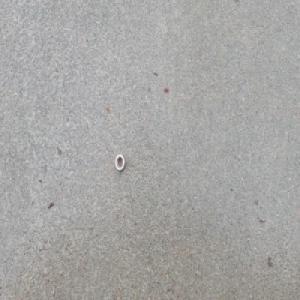Nut: (114, 153, 125, 171)
